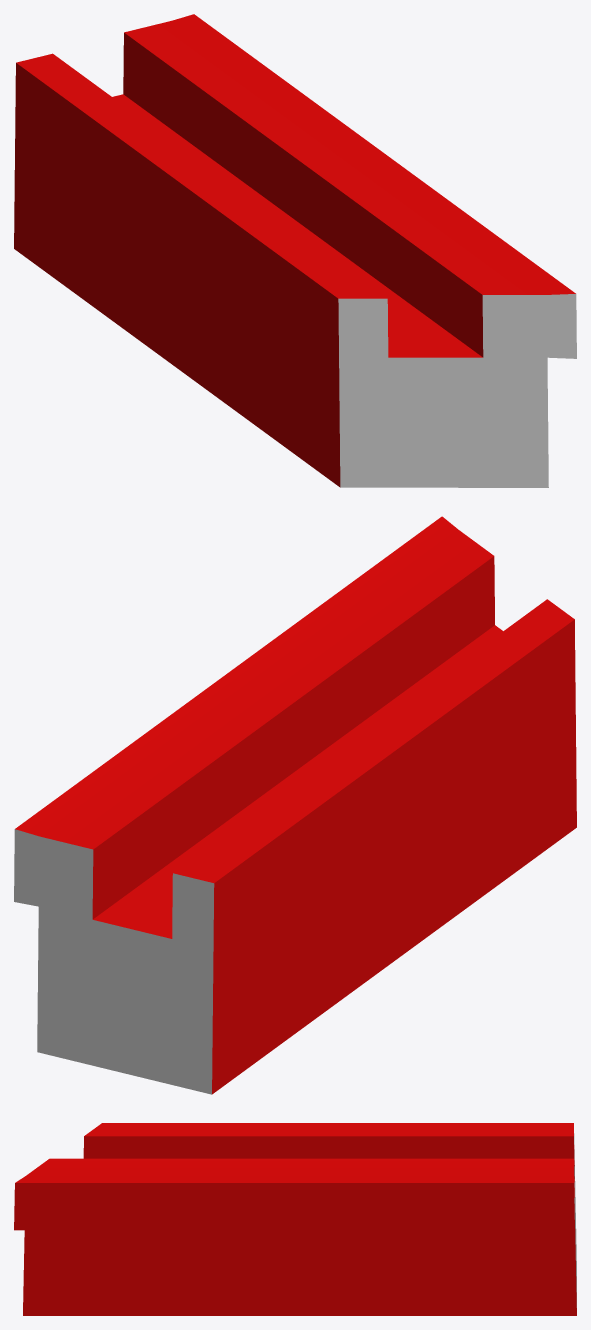
File: mdl_ciudadela_pared_fracturepart3.fbx
The picture shows the model from 3 angles, top to bottom: view 1: azimuth 30°, elevation 25°; view 2: azimuth 150°, elevation 25°; view 3: azimuth 270°, elevation 25°; orthographic projection. The views are drawn at different scales.
Visible parts, largest first — view 1: mdl_ciudadela_pared_fracturepart3; view 2: mdl_ciudadela_pared_fracturepart3; view 3: mdl_ciudadela_pared_fracturepart3.
Boxes of the visible parts, bbox=[...] form: mdl_ciudadela_pared_fracturepart3: bbox=[14, 14, 576, 487]; mdl_ciudadela_pared_fracturepart3: bbox=[14, 516, 576, 1094]; mdl_ciudadela_pared_fracturepart3: bbox=[14, 1123, 576, 1315].
Size of the model in its own units: 4.07 by 4.21 by 15.23.
